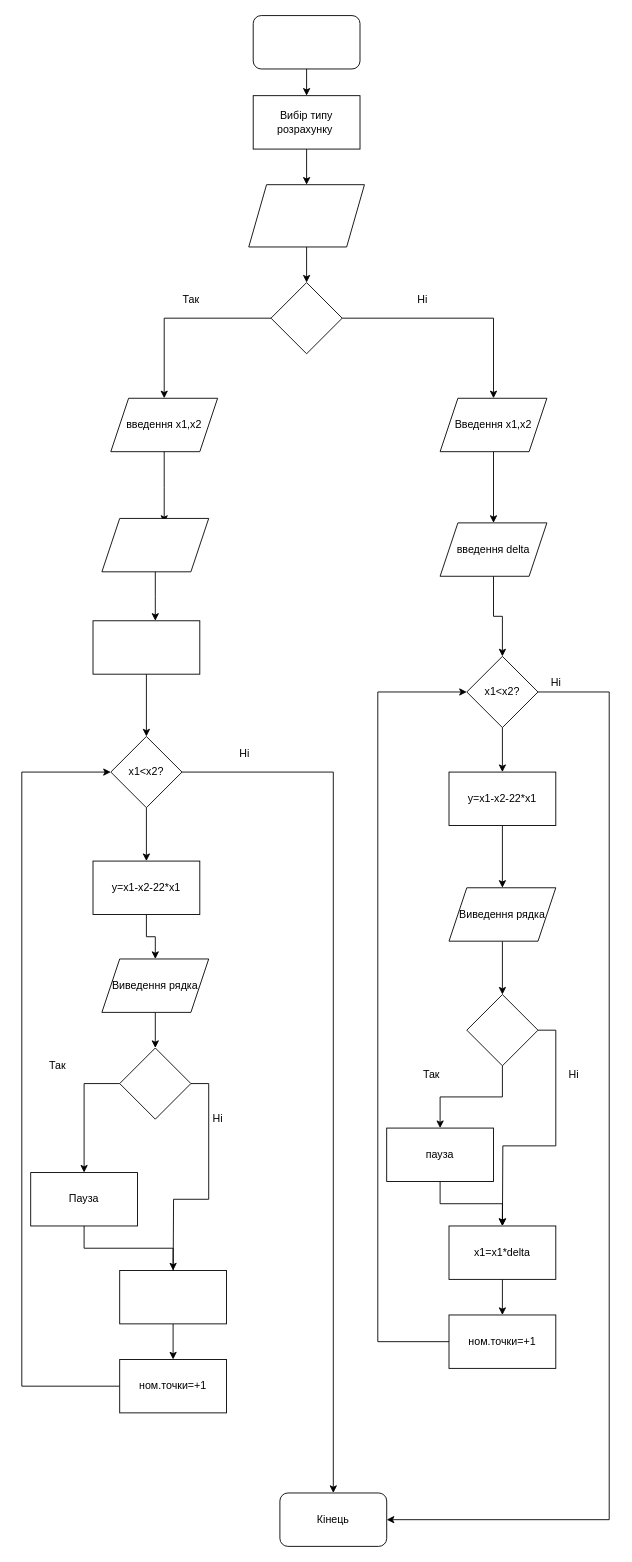
Some shapes in this 632 by 1562 pixel diagram are drawn without their labels. Each missing label, with the centre of its shape:
delta=(x2-x1)/(N-1): the point at 146,647
x1=x1+delta: the point at 173,1297
введення N: the point at 155,545
Номер точка=10?: the point at 502,1030
Номер точки=10?: the point at 155,1083
Початок: the point at 306,42
Тип 1 або 2: the point at 306,215
тип=1?: the point at 306,318
